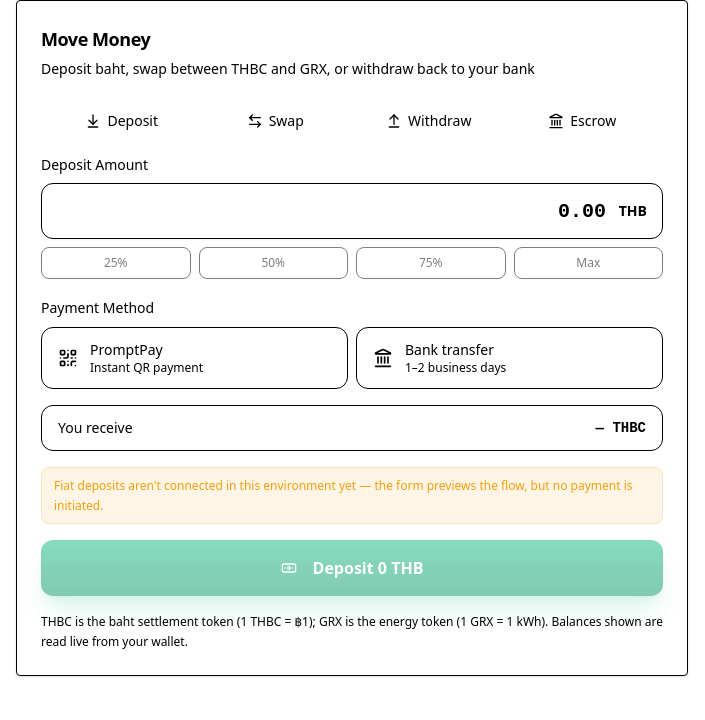
WalletActions › submits a THBC→GRX swap sized in kWh
Press the mouse on the tab with test id "swap-tab": (275, 121) [198,107,352,135]
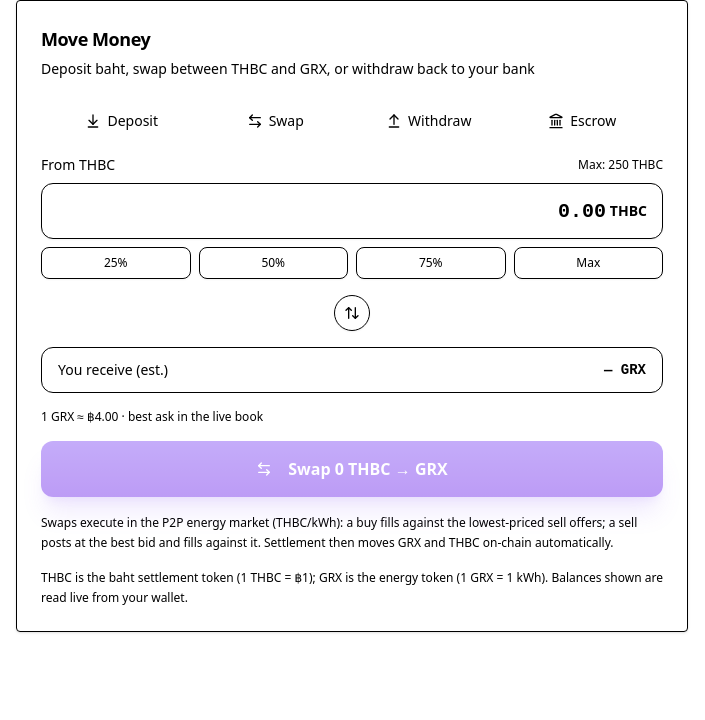
In the number field with test id "escrow-amount-input": (352, 211) [41,183,663,239], type "100"
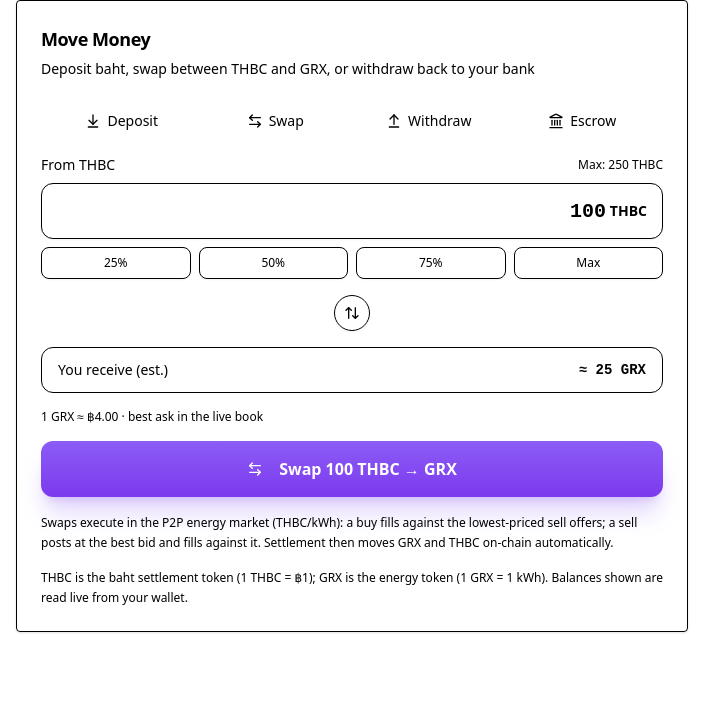
Check: the button with test id "swap-submit" is enabled
Click the button with test id "swap-submit": (352, 469) [41,441,663,497]
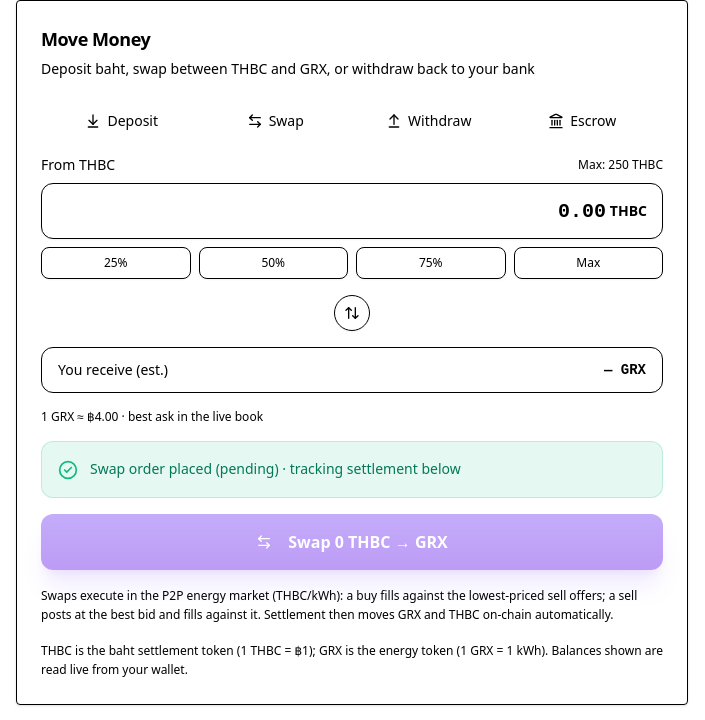
Check: the text "Swap order placed (pending) · tracking settlement below" is shown, box [90,458,461,481]
